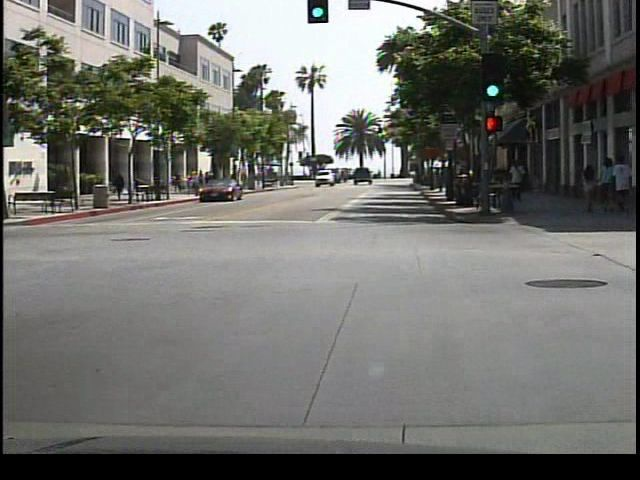person: (508, 156, 529, 207), (113, 170, 129, 202)
